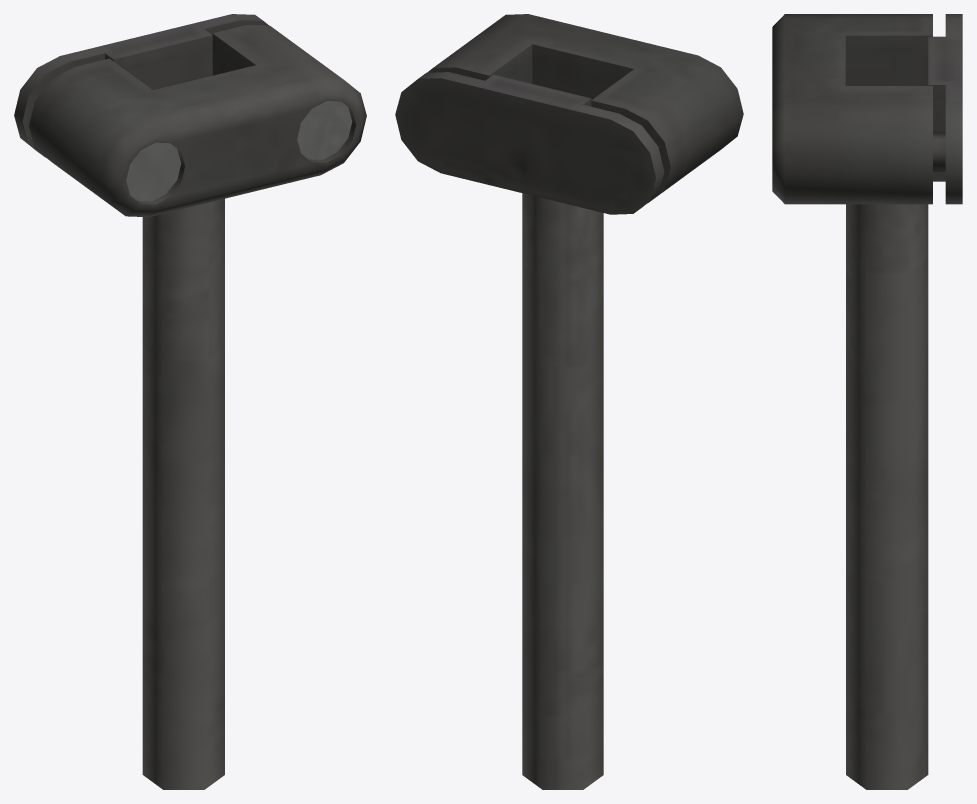
File: cable_straight_short.gltf
3 renders of one model, left to right at view 1: azimuth 30°, elevation 25°; view 2: azimuth 150°, elevation 25°; view 3: azimuth 270°, elevation 25°, orthographic.
Visible parts, largest first — view 1: cable_straight_short; view 2: cable_straight_short; view 3: cable_straight_short.
Boxes of the visible parts, x1,y1,x2,y2 form: cable_straight_short: (14,14,366,789); cable_straight_short: (395,14,743,789); cable_straight_short: (772,14,962,789).
Bounding box in the file's own units: 0.0416 × 0.1073 × 0.0259.
Materials: 1 (1 with a texture image).
